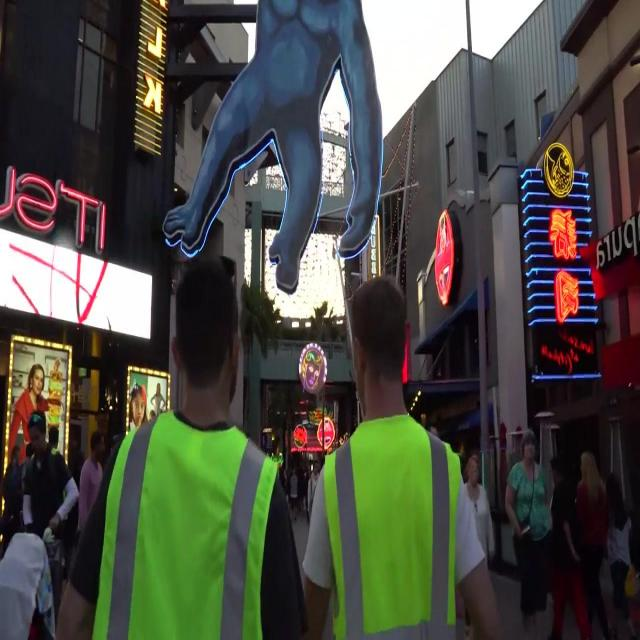Reflective-Jacket: (89, 403, 283, 640), (316, 410, 465, 640)
